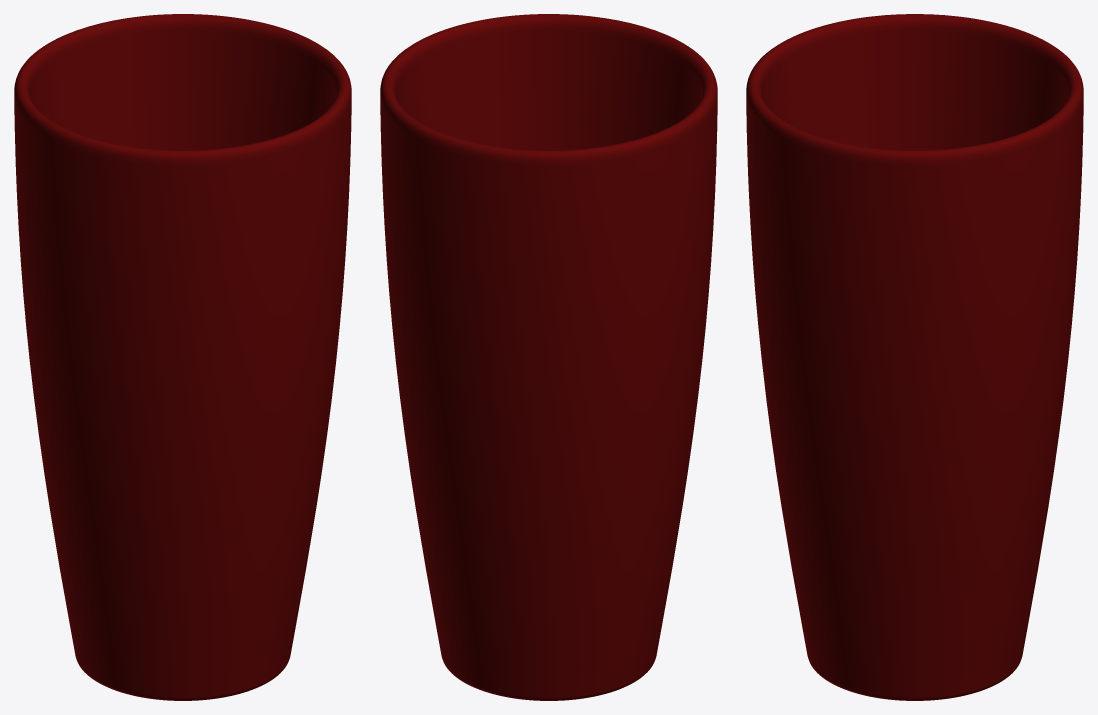
The model's file is ocean.glb.
The picture shows the model from 3 angles, left to right: view 1: azimuth 30°, elevation 25°; view 2: azimuth 150°, elevation 25°; view 3: azimuth 270°, elevation 25°; orthographic projection.
Size of the model in its own units: 0.0433 by 0.0813 by 0.0433.
